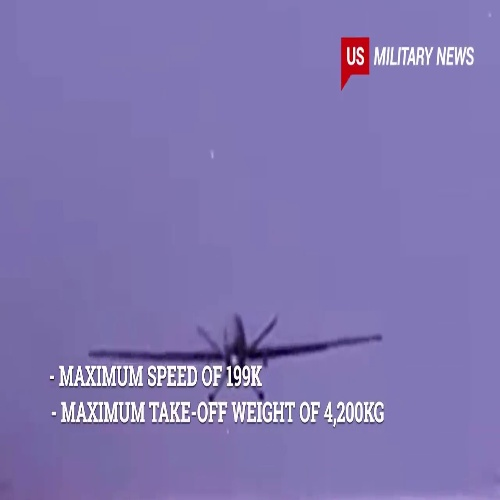uav: (86, 313, 384, 403)
